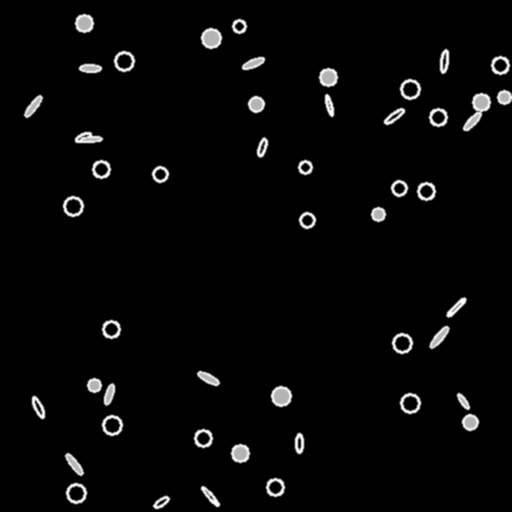pseudomonas: (428, 325, 450, 349), (23, 94, 43, 118), (200, 485, 220, 507), (64, 453, 84, 475), (462, 111, 482, 131), (446, 297, 466, 317), (383, 107, 405, 125), (196, 370, 220, 386), (30, 396, 46, 418), (241, 56, 265, 70), (152, 495, 170, 509), (103, 384, 115, 404), (256, 137, 268, 157), (439, 49, 449, 73), (456, 393, 470, 409), (324, 94, 334, 116), (74, 131, 92, 143), (295, 433, 302, 452), (80, 65, 100, 71), (81, 136, 101, 142)
synechocystis: (393, 334, 411, 352), (115, 52, 133, 70), (272, 387, 290, 405), (401, 80, 419, 98), (202, 29, 220, 47), (64, 197, 82, 215), (401, 394, 419, 412), (67, 484, 85, 502), (103, 416, 121, 434), (492, 57, 508, 73), (418, 183, 434, 199), (195, 430, 211, 446), (430, 109, 446, 125), (320, 69, 336, 85), (473, 94, 489, 110), (232, 445, 248, 461), (103, 321, 119, 337), (267, 479, 283, 495), (93, 161, 109, 177), (76, 15, 92, 31), (249, 97, 263, 111), (300, 213, 314, 227), (153, 167, 167, 181), (463, 415, 477, 429), (392, 181, 406, 195), (498, 91, 510, 103), (299, 161, 311, 173), (372, 208, 384, 220), (233, 20, 245, 32), (88, 379, 100, 391)
